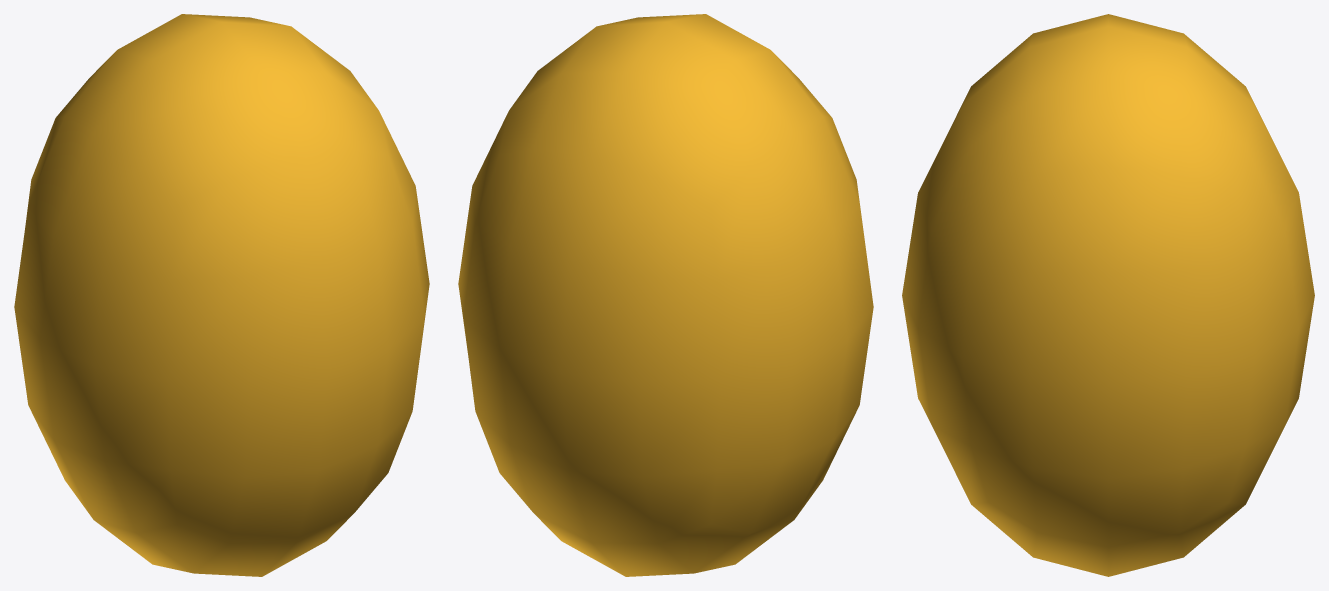
Rendered from nervoso-nucleus-of-abducens-nerve-r.glb.
3 views of the same model, side by side, from view 1: azimuth 30°, elevation 25°; view 2: azimuth 150°, elevation 25°; view 3: azimuth 270°, elevation 25° (orthographic).
Visible parts, largest first — view 1: Nucleus of abducens nerve.r; view 2: Nucleus of abducens nerve.r; view 3: Nucleus of abducens nerve.r.
Part boxes in pixels (x1,y1,x2,y2): Nucleus of abducens nerve.r: (14, 14, 429, 576); Nucleus of abducens nerve.r: (458, 14, 873, 576); Nucleus of abducens nerve.r: (902, 14, 1314, 576).
Bounding box in the file's own units: 0.00161 × 0.00231 × 0.00161.
